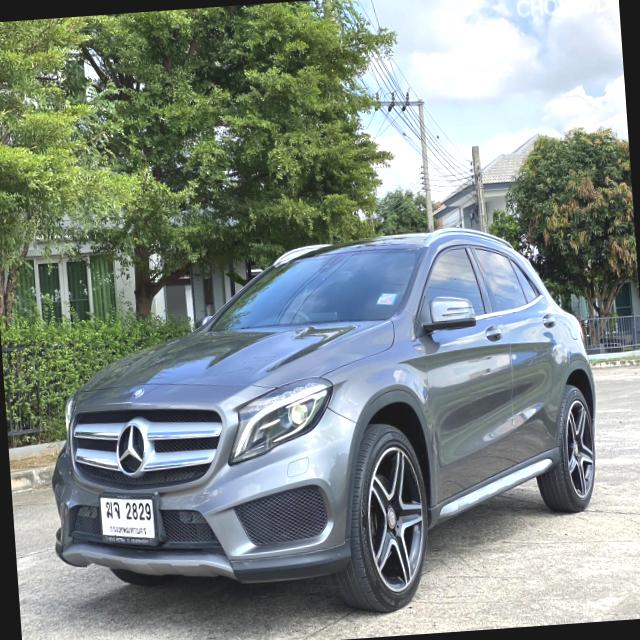license_plate: (96, 487, 161, 548)
